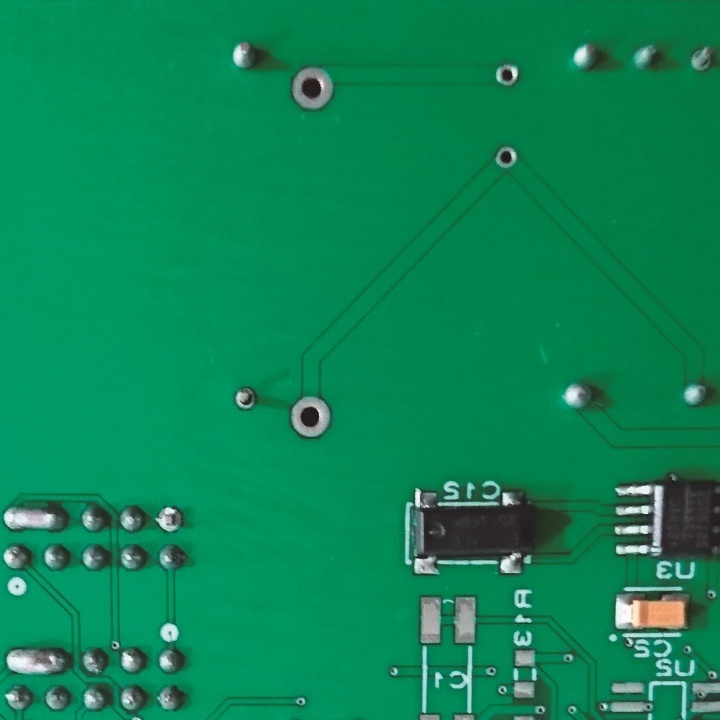F: (285, 63, 338, 113), (287, 391, 334, 442), (155, 503, 186, 538), (687, 43, 719, 76), (490, 60, 524, 89), (490, 143, 520, 173), (230, 386, 259, 415)
P: (1, 643, 73, 678), (1, 501, 71, 535)
